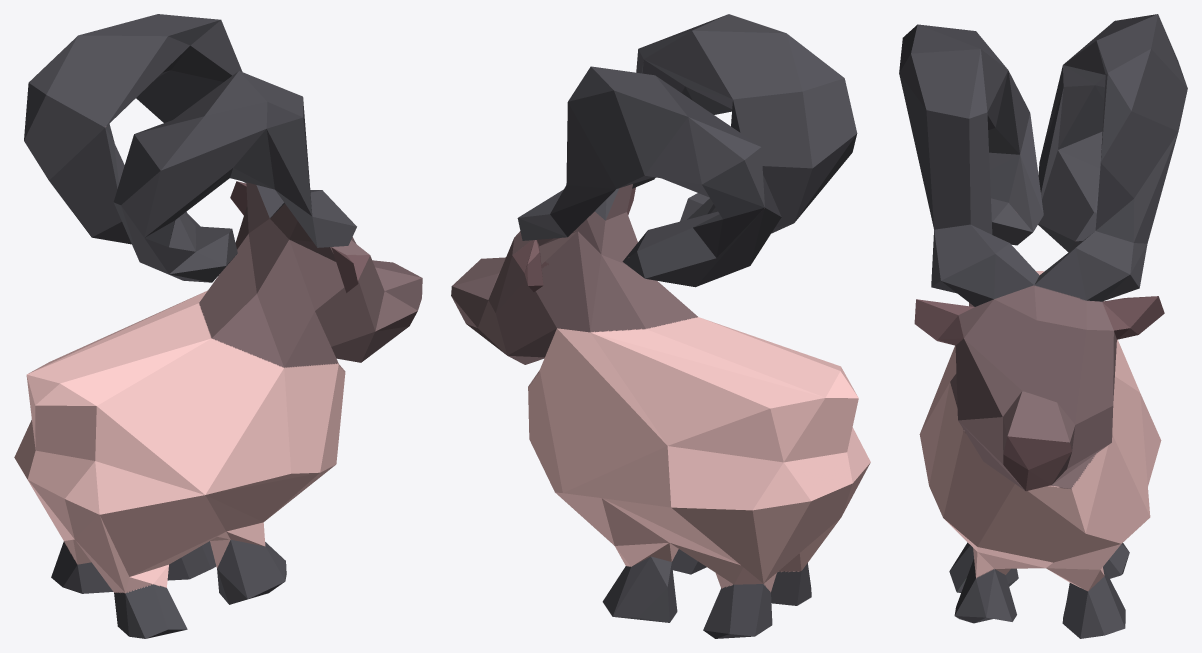
Rendered from cabrita_000025.obj.
3 views of the same model, side by side, from view 1: azimuth 30°, elevation 25°; view 2: azimuth 150°, elevation 25°; view 3: azimuth 270°, elevation 25° (orthographic). The views are drawn at different scales.
Visible parts, largest first — view 1: cabra_Cube.067; view 2: cabra_Cube.067; view 3: cabra_Cube.067.
Boxes of the visible parts, x1=… form: cabra_Cube.067: x1=14, y1=14, x2=422, y2=638; cabra_Cube.067: x1=451, y1=14, x2=870, y2=638; cabra_Cube.067: x1=899, y1=14, x2=1187, y2=638.
Bounding box in the file's own units: 43.13 × 58.02 × 26.27.
Materials: 1 (1 with a texture image).
